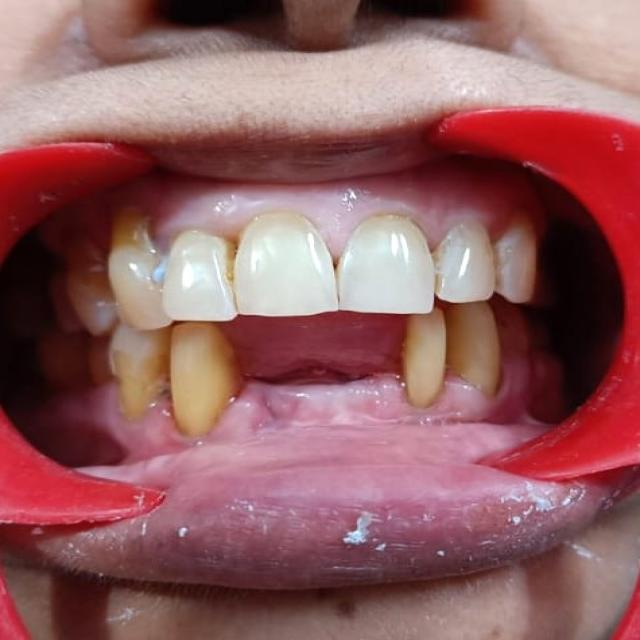No Cancer: (84, 185, 590, 419)
